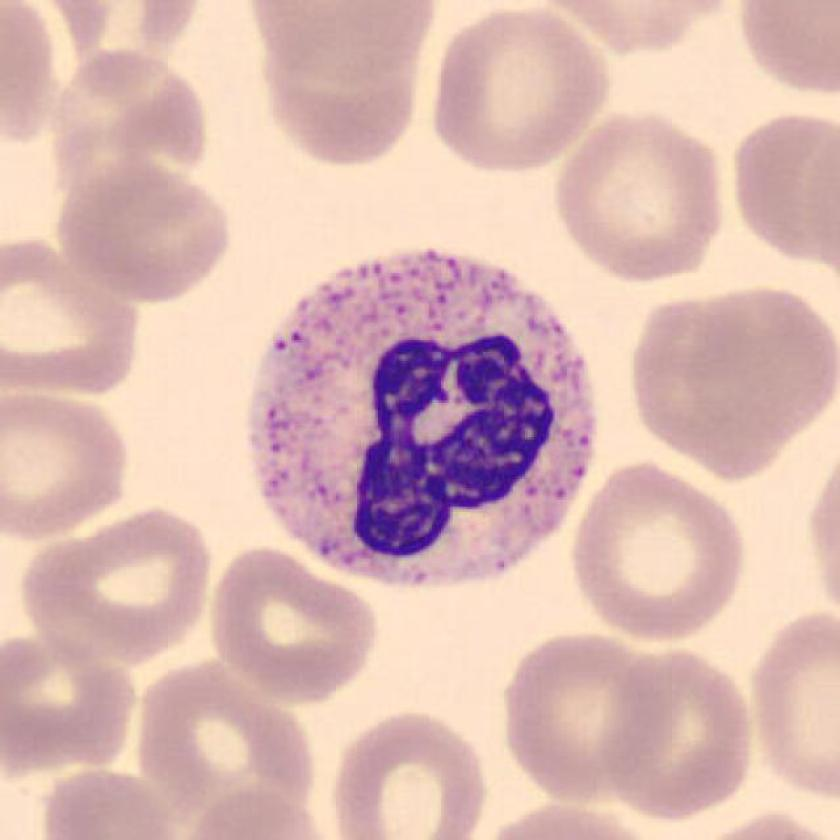neutrophil: (245, 252, 598, 577)
